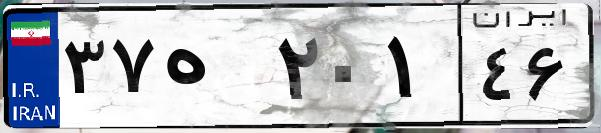0: (330, 28, 385, 110)
1: (385, 28, 445, 110)
2: (270, 28, 330, 110)
3: (57, 26, 110, 100)
4: (475, 38, 525, 113)
6: (525, 38, 570, 115)
7: (110, 28, 158, 98)
ه: (158, 20, 270, 120)
